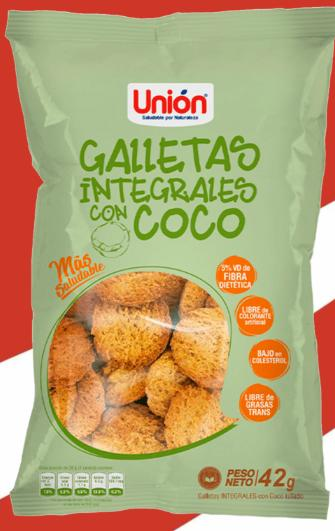brand: (122, 76, 219, 128)
net_weight: (258, 466, 297, 492)
product_name: (74, 135, 269, 245)
